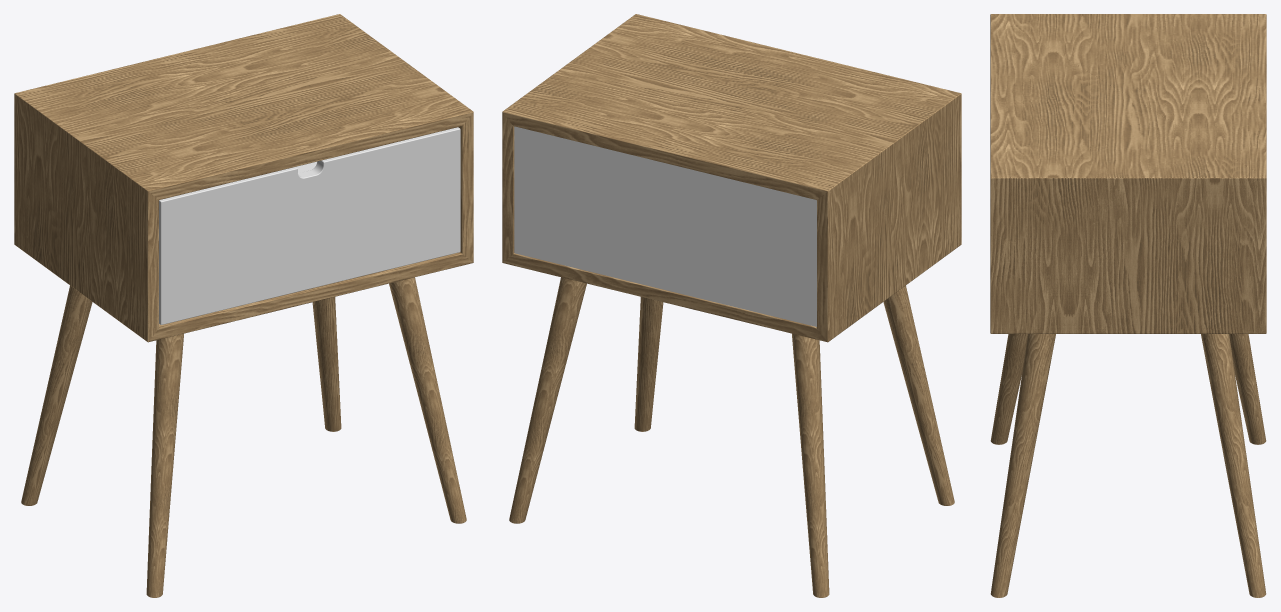
The model's file is stand_modern.glb.
3 renders of one model, left to right at view 1: azimuth 30°, elevation 25°; view 2: azimuth 150°, elevation 25°; view 3: azimuth 270°, elevation 25°, orthographic. The views are drawn at different scales.
Visible parts, largest first — view 1: frame.001, drawer.001, legs.001; view 2: frame.001, back.001, legs.001; view 3: frame.001, legs.001.
Part boxes in pixels (box(x1,y1,x2,y2)): frame.001: box(14, 14, 473, 342); drawer.001: box(159, 127, 460, 324); legs.001: box(21, 277, 466, 597); frame.001: box(502, 14, 961, 342); back.001: box(514, 126, 816, 326); legs.001: box(509, 277, 954, 597); frame.001: box(990, 14, 1266, 333); legs.001: box(990, 334, 1266, 597).
Size of the model in its own units: 45 by 54 by 32.
3 materials, 1 textured.
